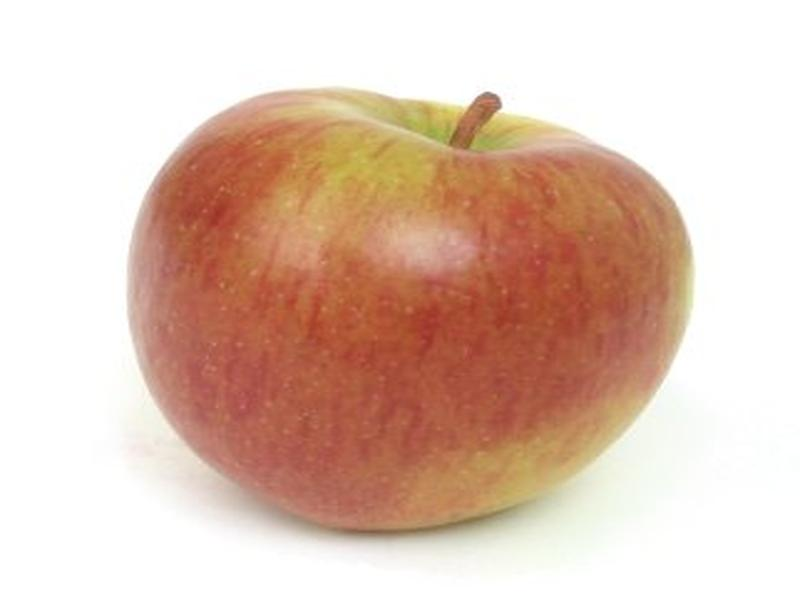apple: (115, 61, 709, 541)
